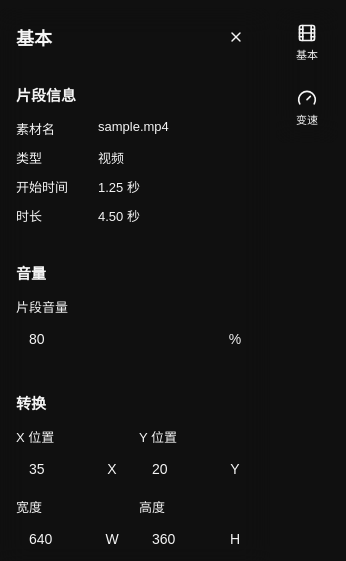
Test: FloatingInspector › commits a typed fixed speed and updates the timeline duration once
Click the button "变速" at {"x": 307, "y": 108}, box [281,78,333,138]
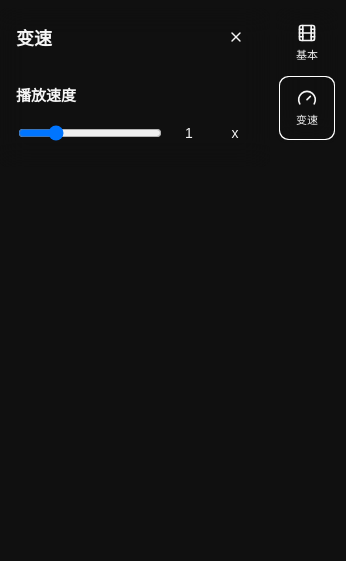
Replace the text in the number field named "播放速度" with "2" at {"x": 196, "y": 133}, box [173,118,219,148]
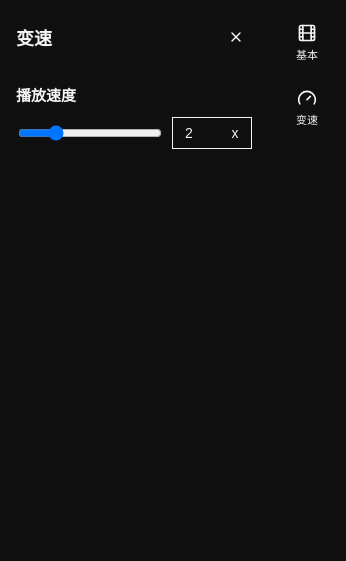
Press Tab
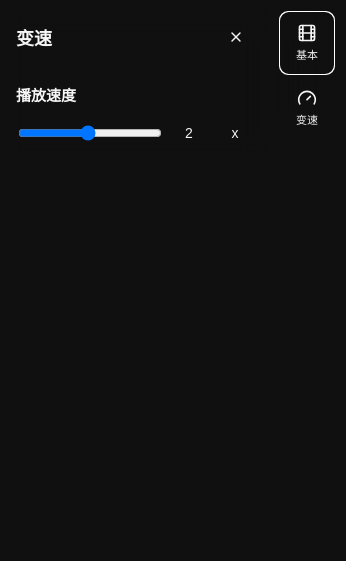
Expected: the slider named "播放速度滑块" holds "2", [18,124,162,142]
